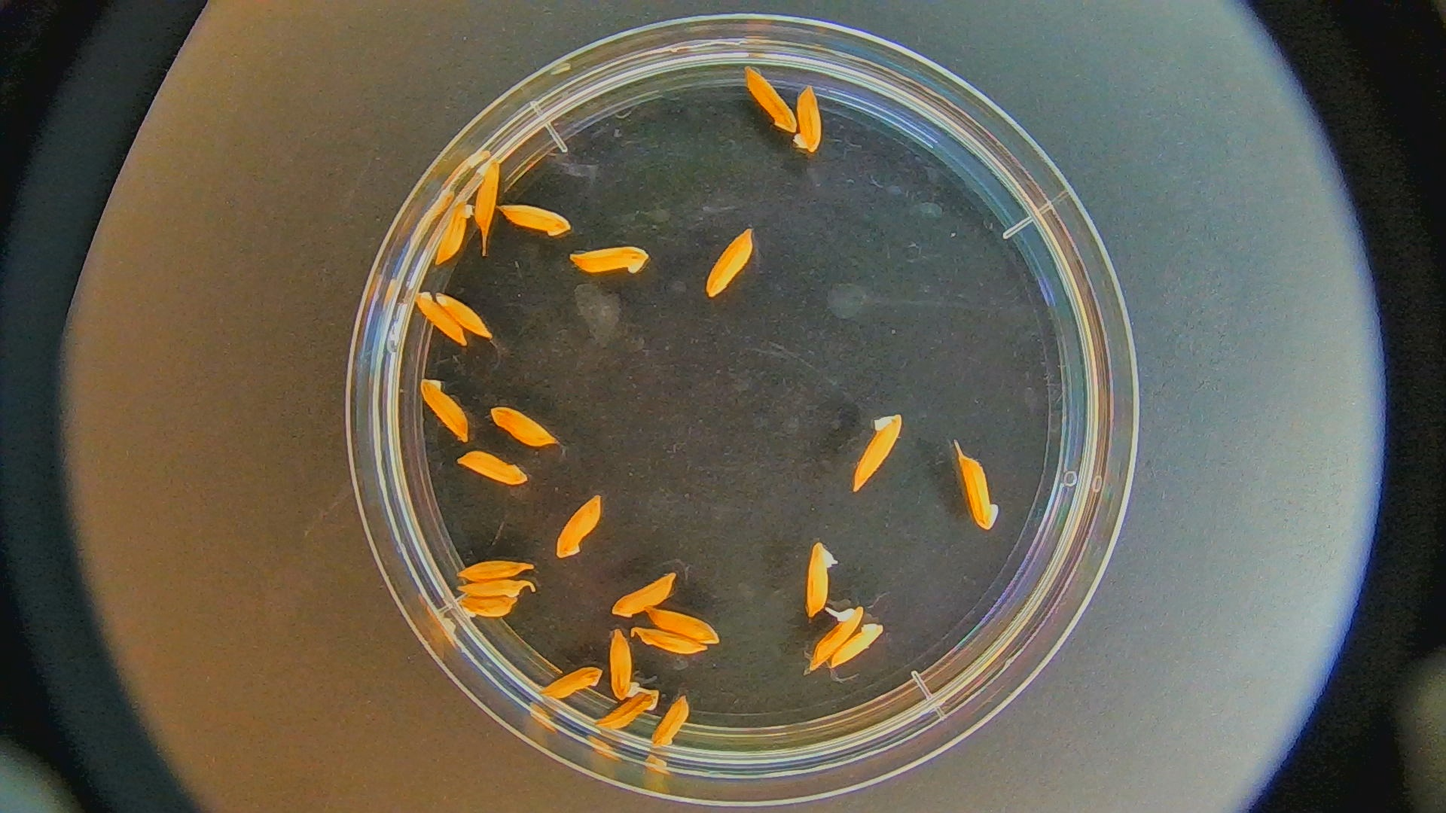no: (737, 60, 801, 132), (486, 399, 567, 453), (703, 225, 757, 304), (643, 599, 726, 648), (856, 411, 907, 488), (449, 445, 532, 489), (414, 372, 468, 439), (436, 289, 496, 347), (410, 285, 468, 344), (595, 690, 660, 741), (956, 456, 999, 531), (554, 492, 603, 555), (611, 570, 675, 618), (630, 623, 708, 662), (802, 537, 837, 623), (790, 78, 825, 162), (538, 665, 601, 711), (570, 244, 648, 278), (435, 202, 472, 269), (651, 692, 691, 747), (831, 625, 888, 661), (456, 559, 534, 584), (497, 206, 571, 232), (451, 577, 532, 599), (474, 156, 496, 235), (451, 596, 520, 618)
yes: (606, 626, 655, 701), (810, 607, 859, 666)
